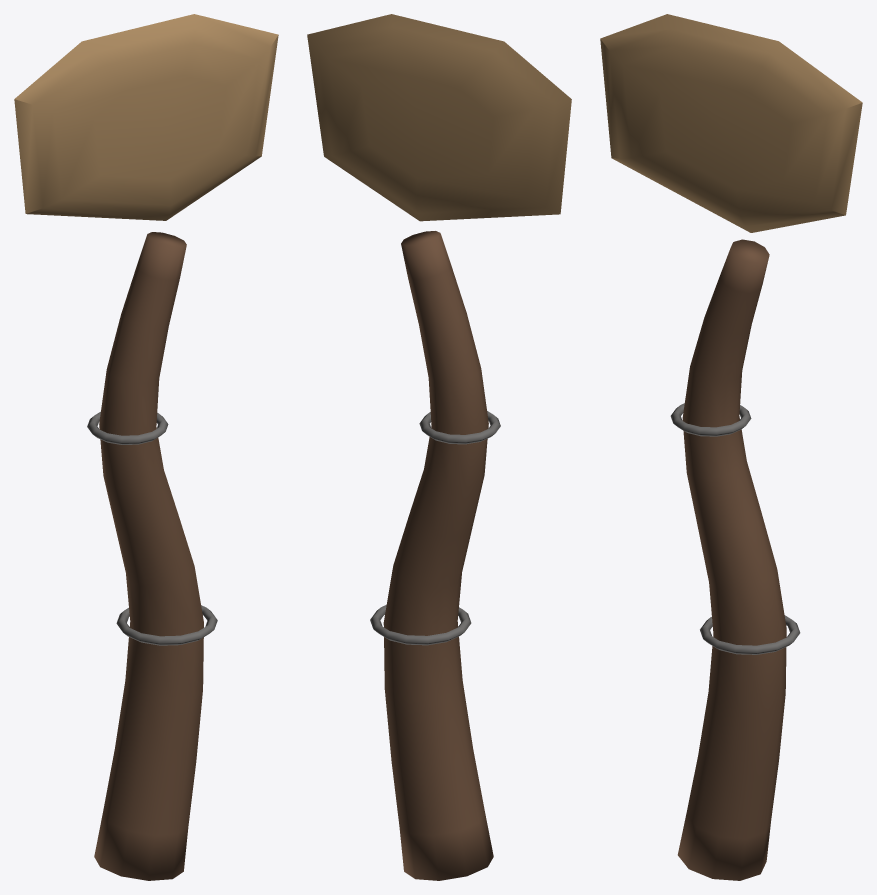
File: sweeper-kobold-tail.glb
3 views of the same model, side by side, from view 1: azimuth 30°, elevation 25°; view 2: azimuth 150°, elevation 25°; view 3: azimuth 330°, elevation 25° (orthographic).
Visible parts, largest first — view 1: sweeper-kobold-tail; view 2: sweeper-kobold-tail; view 3: sweeper-kobold-tail.
Boxes of the visible parts, x1,y1,x2,y2 form: sweeper-kobold-tail: (14, 14, 278, 880); sweeper-kobold-tail: (307, 14, 571, 880); sweeper-kobold-tail: (600, 14, 862, 880).
Bounding box in the file's own units: 0.47 × 1.43 × 0.1525.
